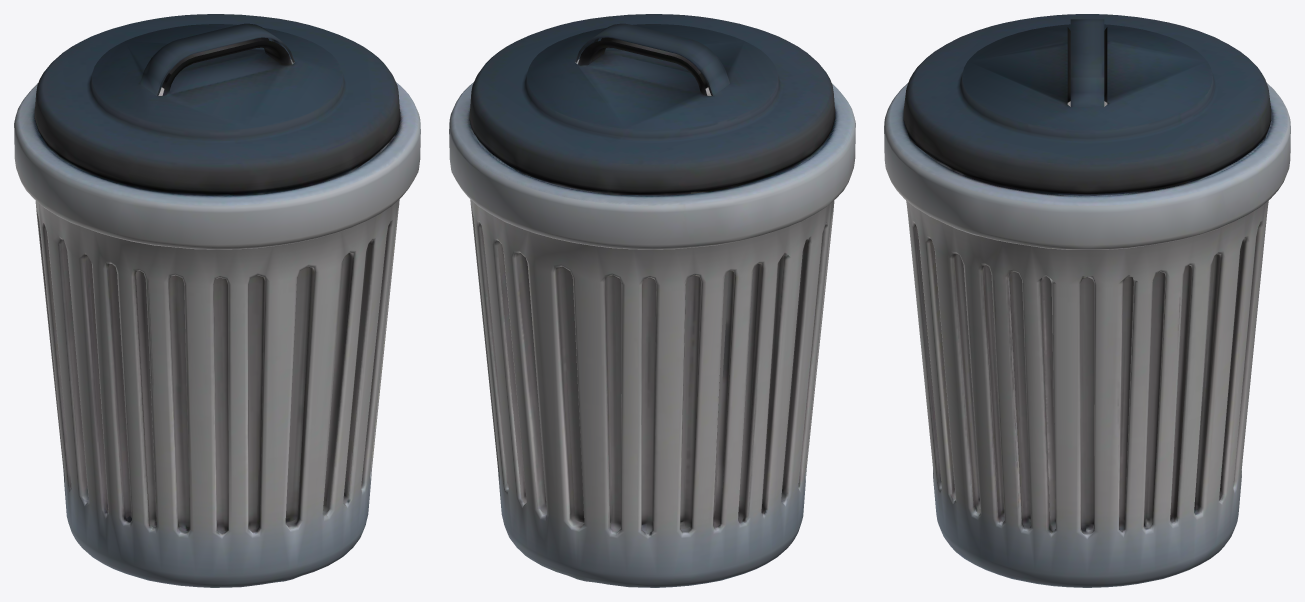
File: garbage_can_6b3d052b_v2.glb
The picture shows the model from 3 angles, left to right: view 1: azimuth 30°, elevation 25°; view 2: azimuth 150°, elevation 25°; view 3: azimuth 270°, elevation 25°; orthographic projection.
Visible parts, largest first — view 1: material; view 2: material; view 3: material.
Part boxes in pixels (x1=…): material: x1=14, y1=14, x2=420, y2=587; material: x1=449, y1=14, x2=855, y2=587; material: x1=884, y1=14, x2=1290, y2=587.
Bounding box in the file's own units: 1.43 × 1.9 × 1.43.
Materials: 1 (1 with a texture image).
